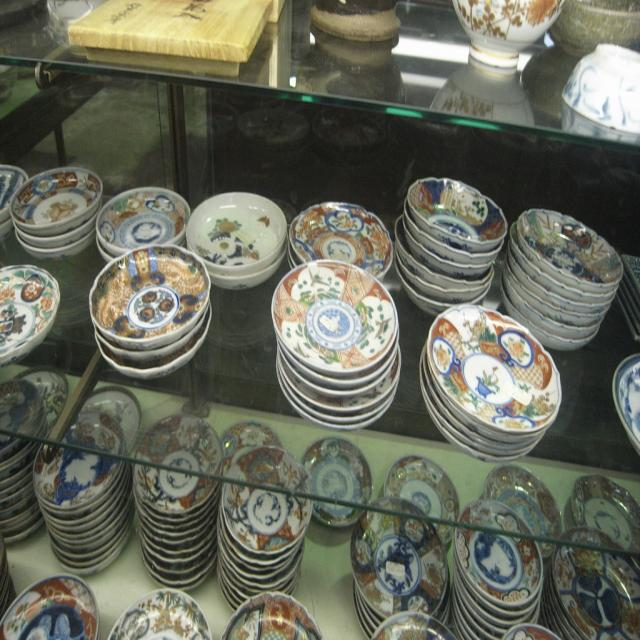non-organic waste: (384, 146, 496, 364), (429, 276, 546, 472), (187, 174, 310, 310)
